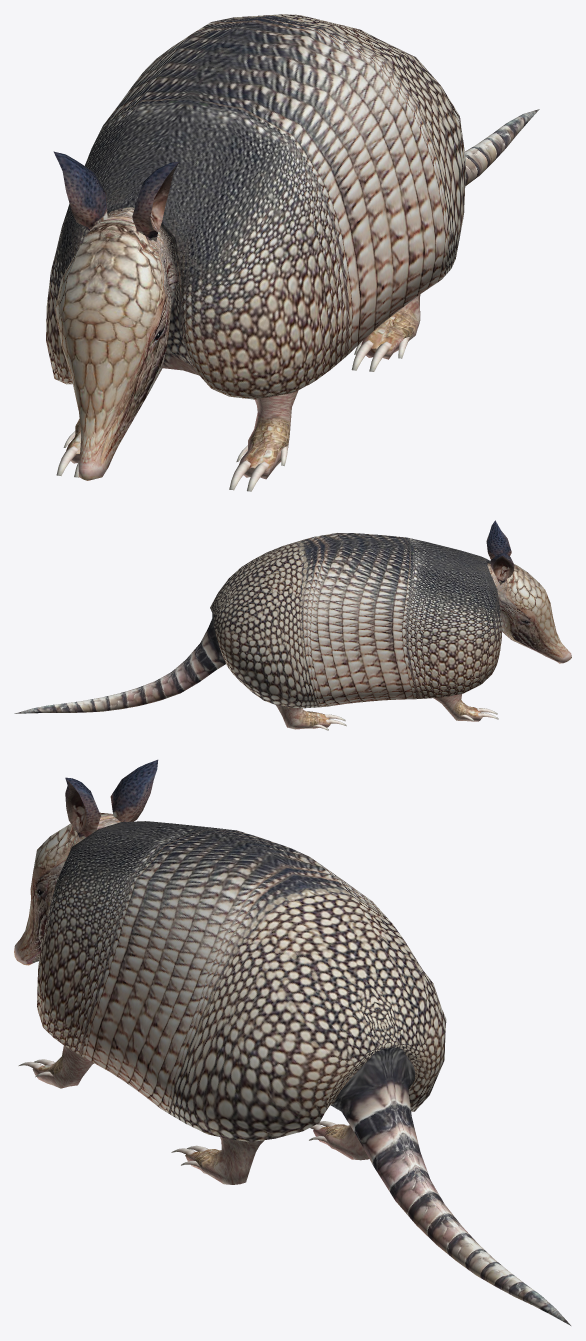
The model's file is armadillo.glb.
3 renders of one model, top to bottom at view 1: azimuth 30°, elevation 25°; view 2: azimuth 150°, elevation 25°; view 3: azimuth 270°, elevation 25°, orthographic. The views are drawn at different scales.
Parts seen in each view (by area): view 1: armadillo; view 2: armadillo; view 3: armadillo.
Boxes of the visible parts, x1=… form: armadillo: x1=46, y1=14, x2=539, y2=491; armadillo: x1=14, y1=520, x2=571, y2=730; armadillo: x1=14, y1=759, x2=570, y2=1325.
Size of the model in its own units: 5.16 by 2.16 by 3.76.
1 material, 1 textured.
